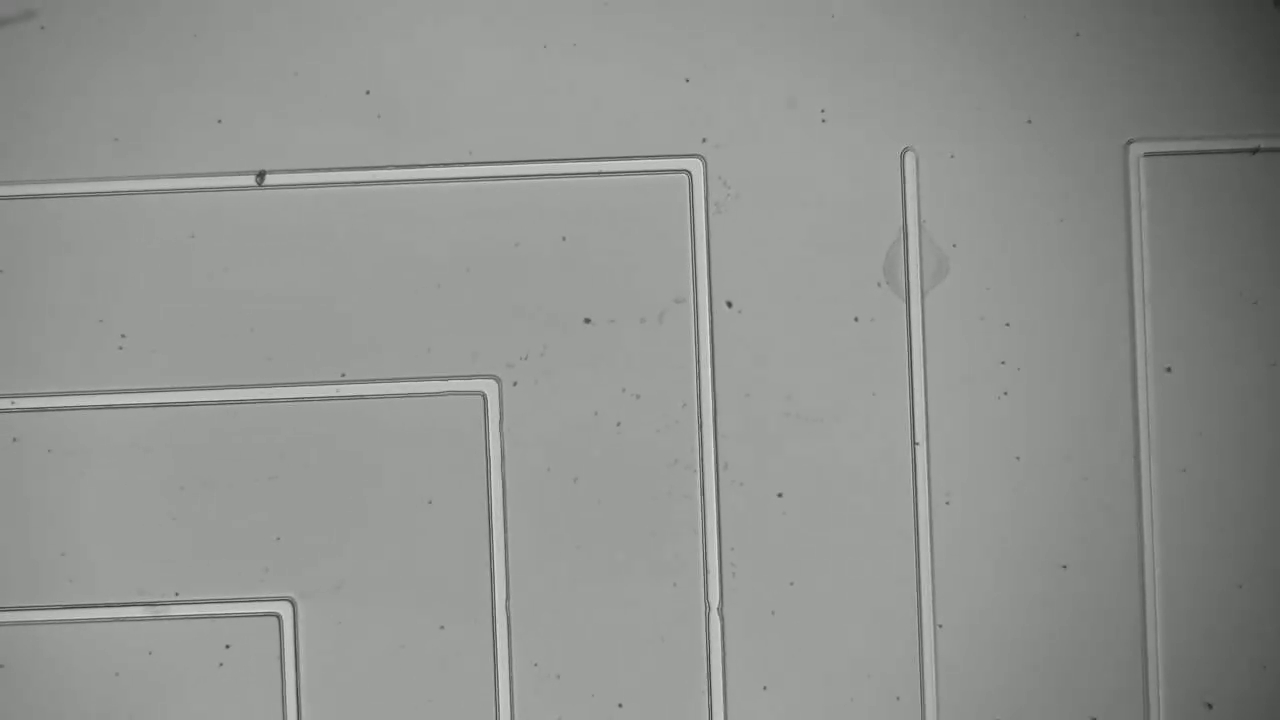edge_bite: (693, 591, 737, 630)
stains_enbedded: (249, 164, 276, 195)
